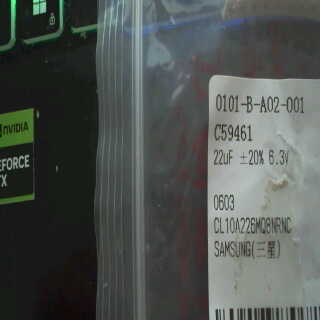22uF: (211, 148, 234, 168)
